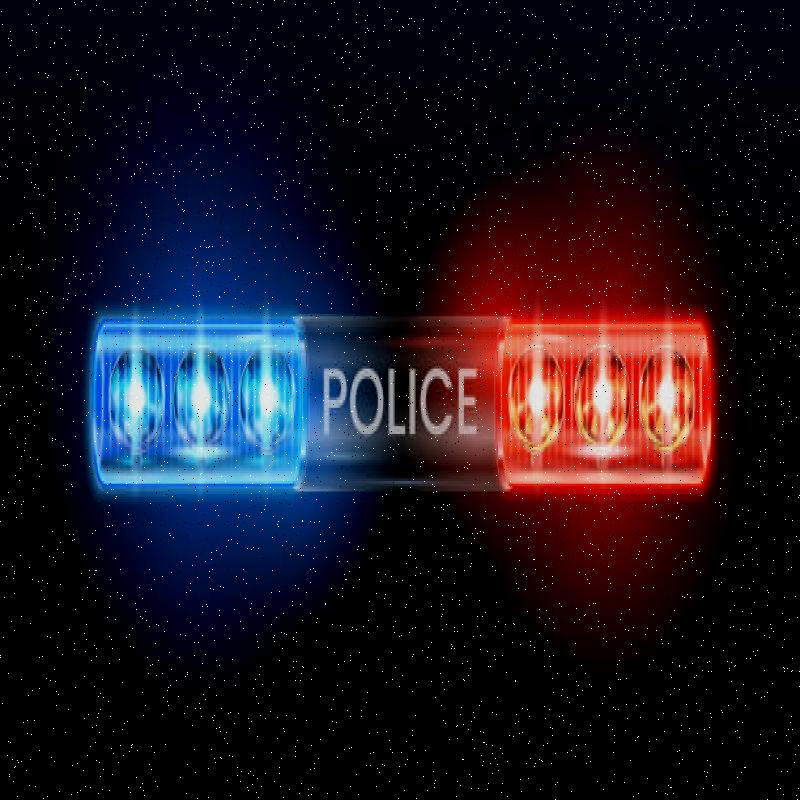AmbulanceSiren: (71, 286, 729, 543)
